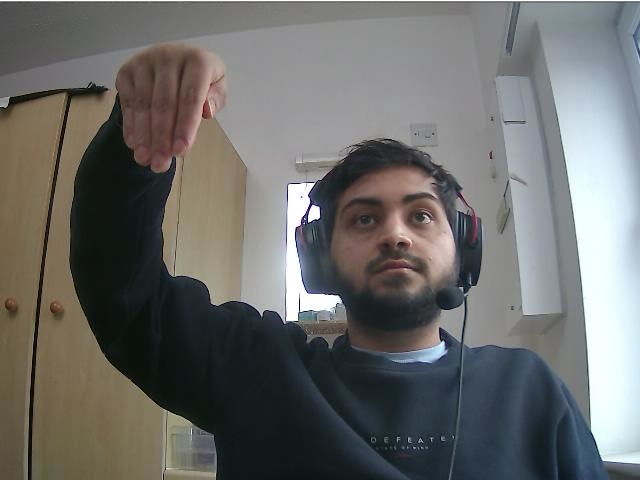down: (112, 41, 229, 174)
